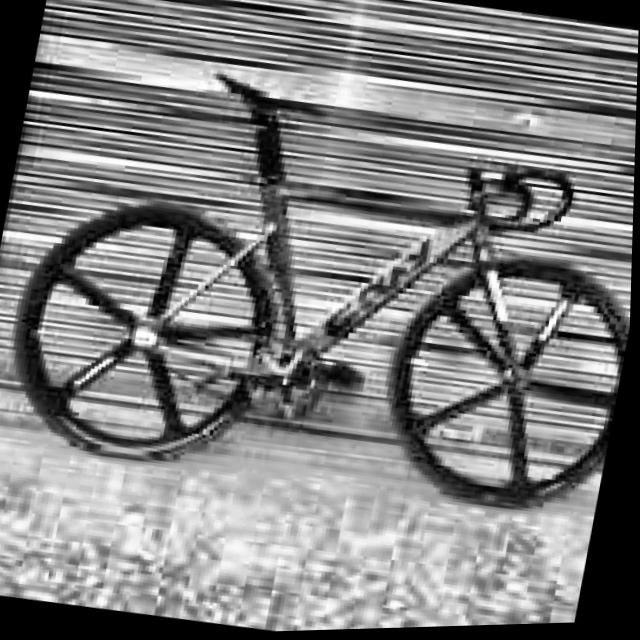motorcycle: (0, 33, 639, 540)
